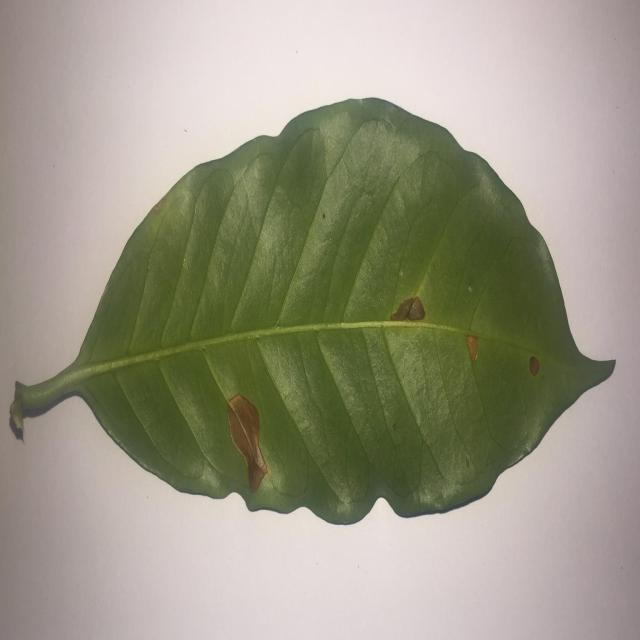Plaga-Minador: (8, 99, 618, 529)
